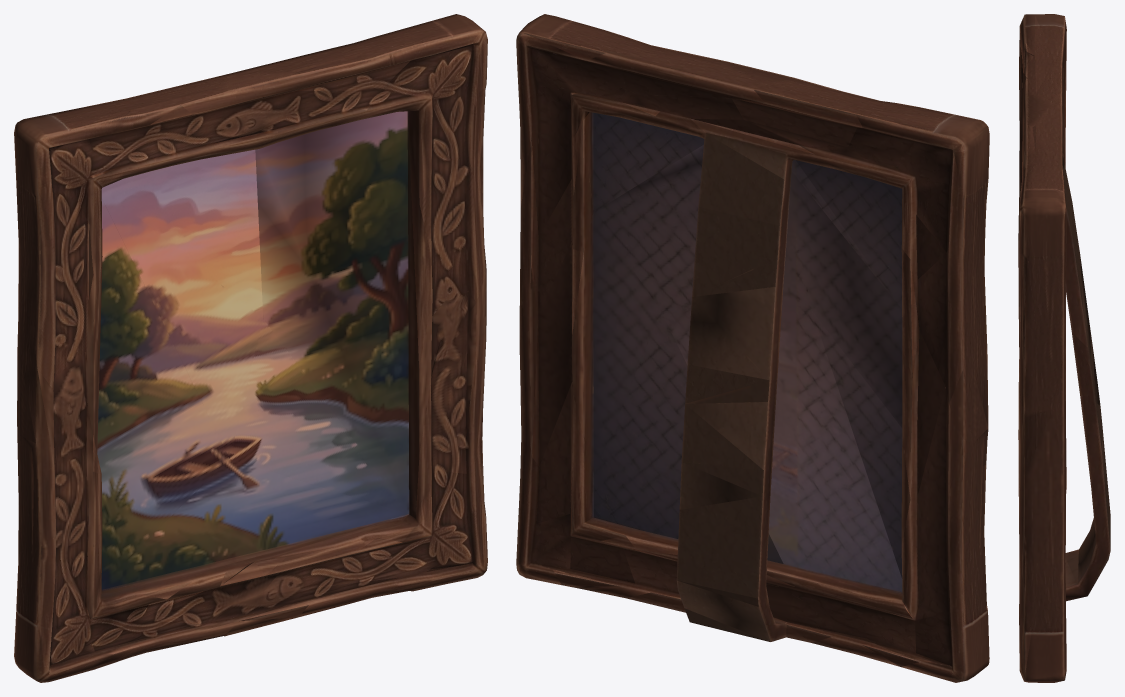
File: Decor_Painting.fbx
The picture shows the model from 3 angles, left to right: view 1: azimuth 30°, elevation 25°; view 2: azimuth 150°, elevation 25°; view 3: azimuth 270°, elevation 25°; orthographic projection. The views are drawn at different scales.
Parts seen in each view (by area): view 1: Mesh_0; view 2: Mesh_0; view 3: Mesh_0.
Part boxes in pixels (x1=…): Mesh_0: x1=14, y1=14, x2=487, y2=682; Mesh_0: x1=516, y1=14, x2=989, y2=682; Mesh_0: x1=1018, y1=14, x2=1110, y2=682.
Size of the model in its own units: 164 by 190 by 32.81.
Materials: 1 (1 with a texture image).
